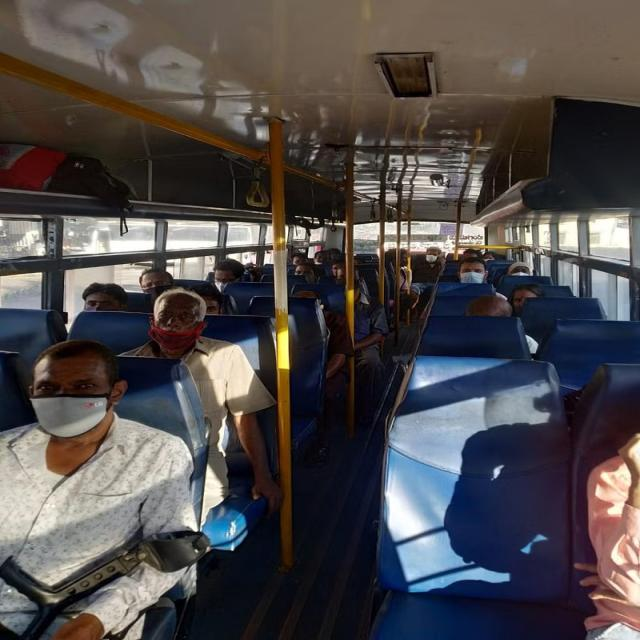asiento-libre: (358, 355, 584, 640), (376, 356, 585, 640), (533, 318, 640, 392), (417, 316, 533, 361), (520, 295, 607, 322)
